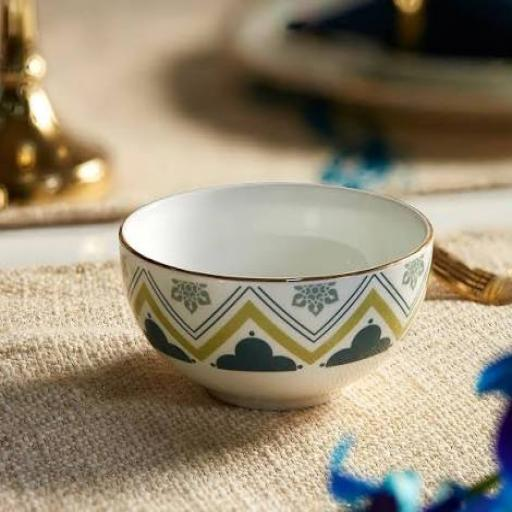Bowl: (120, 183, 432, 408)
